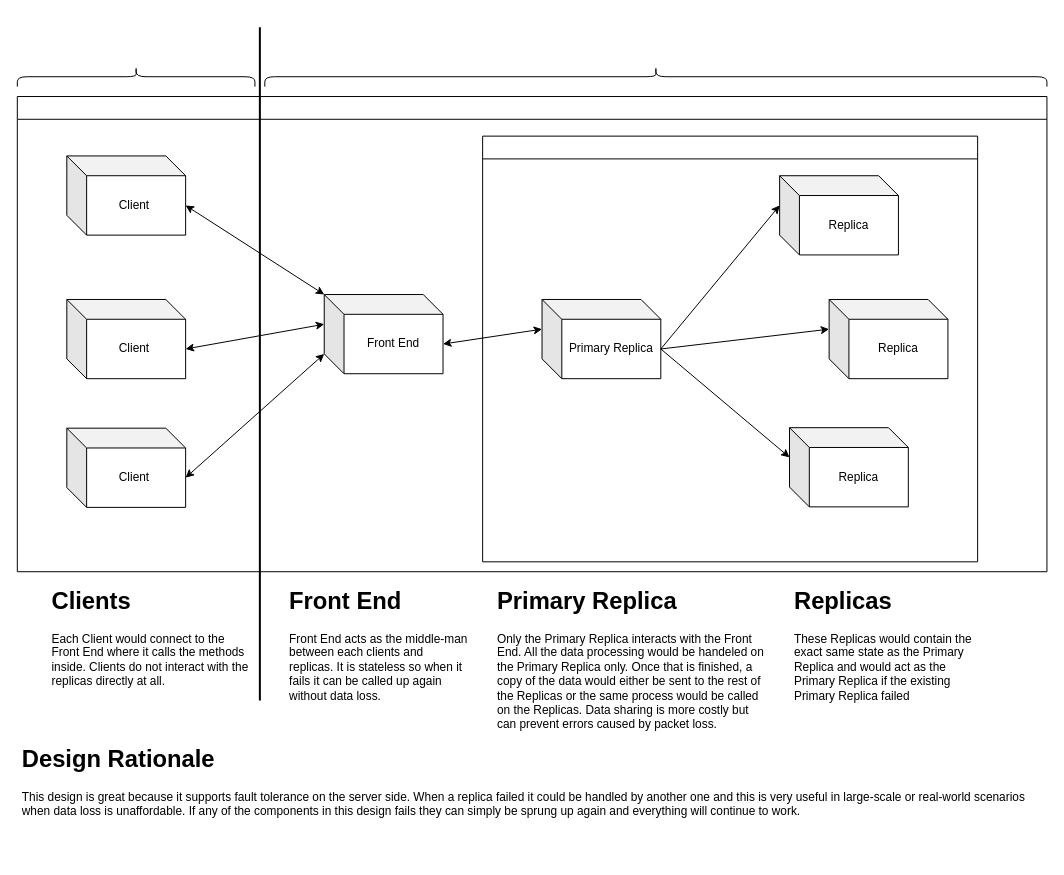
Some shapes in this 1064 by 875 pixel diagram are drawn without their labels. The box of each missing label's shape, as (x1, y1, x2, y2) in pixels:
Client Side: (16, 66, 255, 87)
interface Auction: (16, 96, 1047, 572)
interface ReplicaCommunication: (482, 135, 978, 562)
Server Side: (264, 66, 1047, 87)
